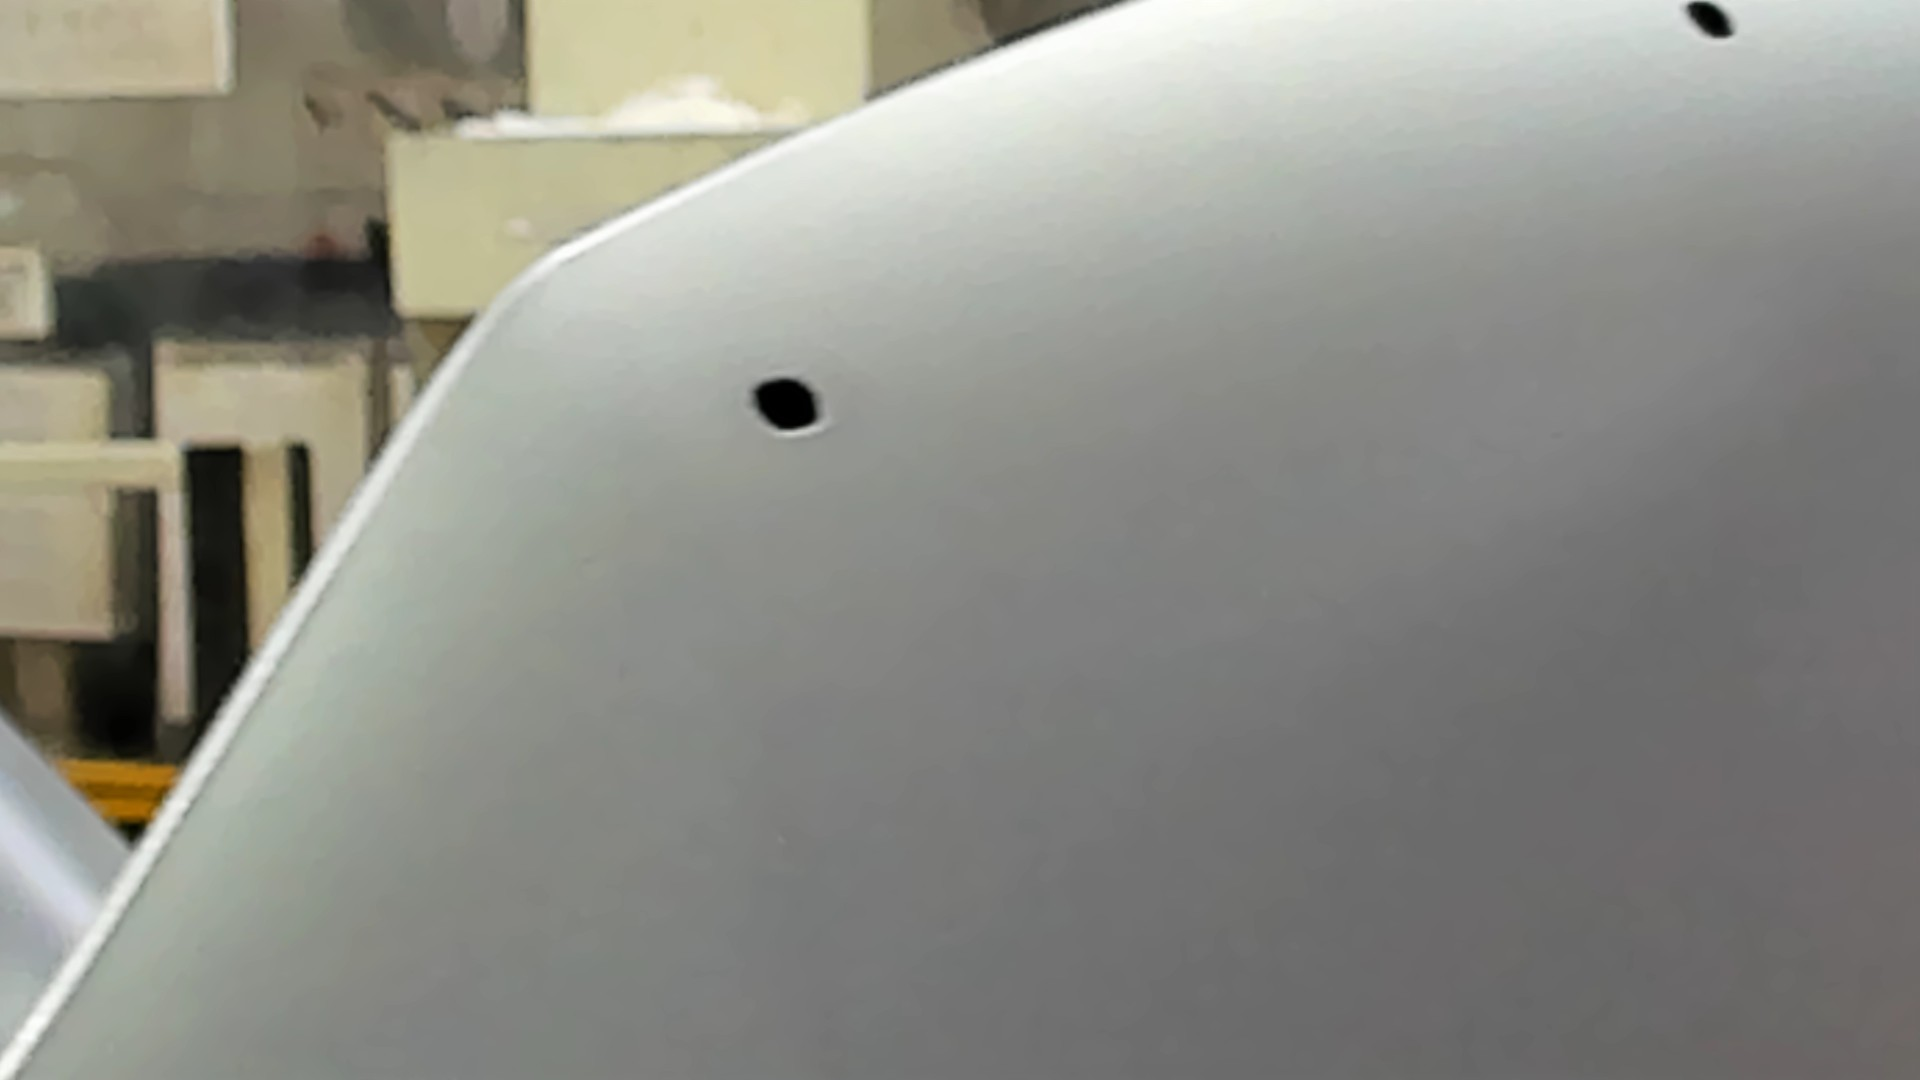amorfo: (742, 369, 833, 438), (1683, 1, 1742, 45)
